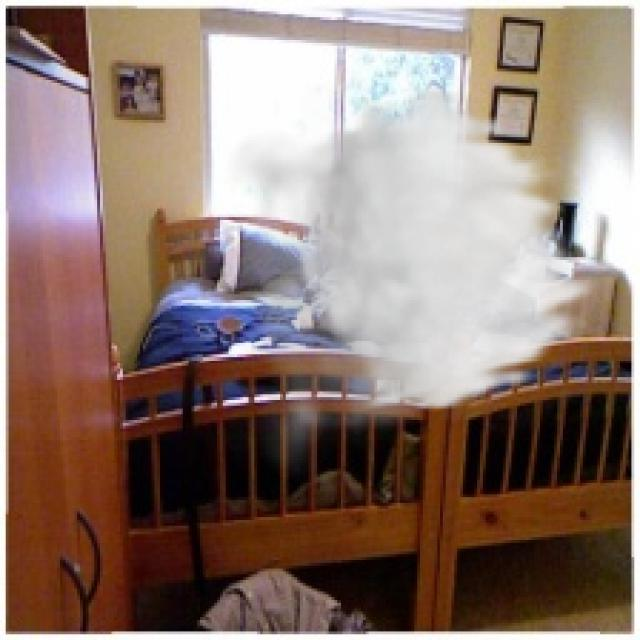smoke: (223, 83, 603, 483)
